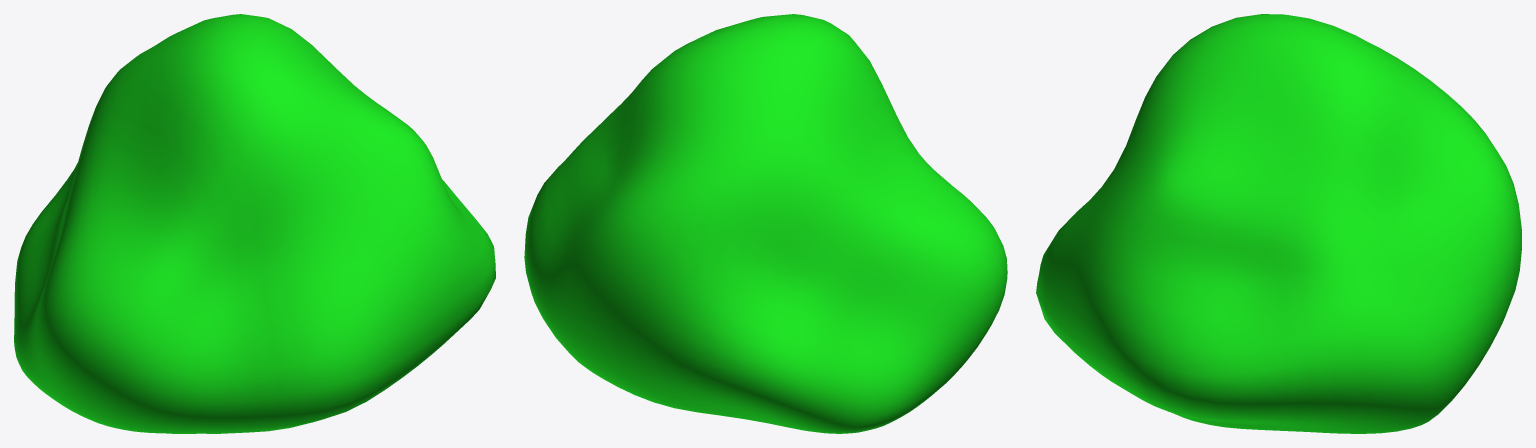
File: Slime.fbx
3 renders of one model, left to right at view 1: azimuth 30°, elevation 25°; view 2: azimuth 150°, elevation 25°; view 3: azimuth 270°, elevation 25°, orthographic. The views are drawn at different scales.
Visible parts, largest first — view 1: Cube.015; view 2: Cube.015; view 3: Cube.015.
Boxes of the visible parts, left/top/right/bottom form: Cube.015: left=14, top=14, right=495, bottom=433; Cube.015: left=524, top=14, right=1007, bottom=433; Cube.015: left=1036, top=14, right=1521, bottom=433.
Bounding box in the file's own units: 192 × 153 × 181.
